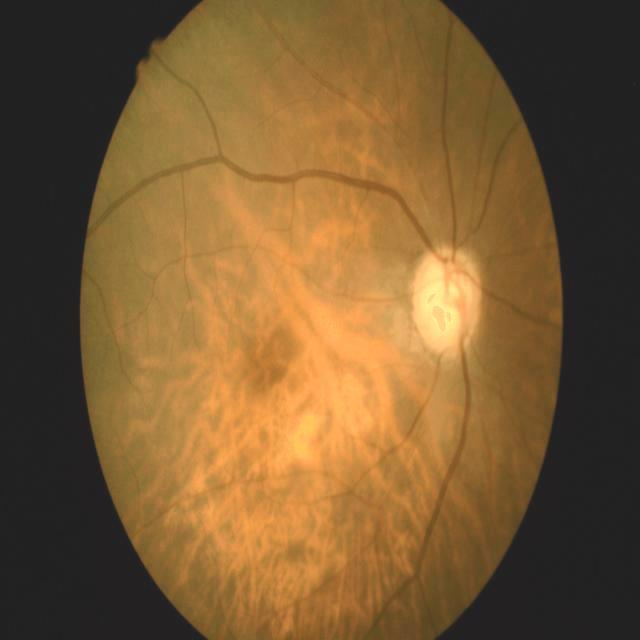cup: (420, 262, 470, 348)
disk: (412, 245, 488, 363)
